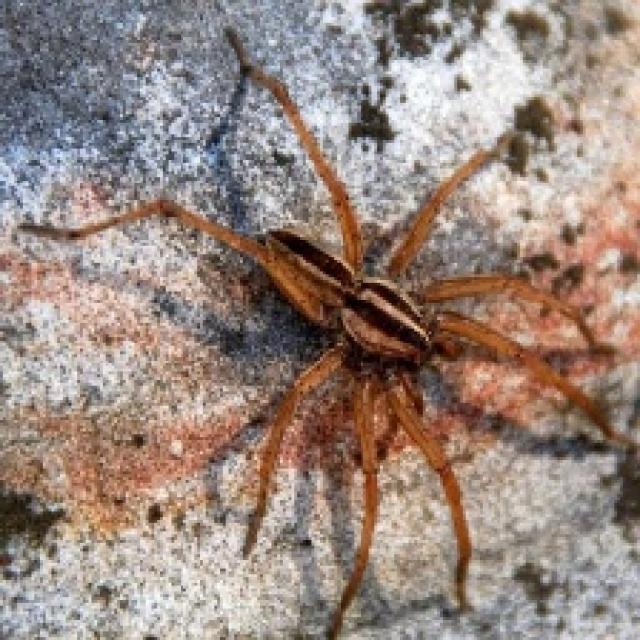Non venomous spider: (195, 175, 541, 448)
